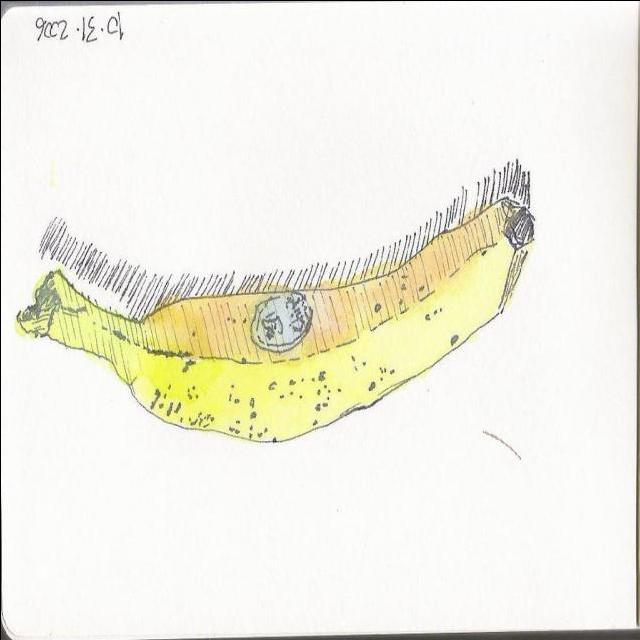Non_Gorille: (1, 1, 630, 632)
